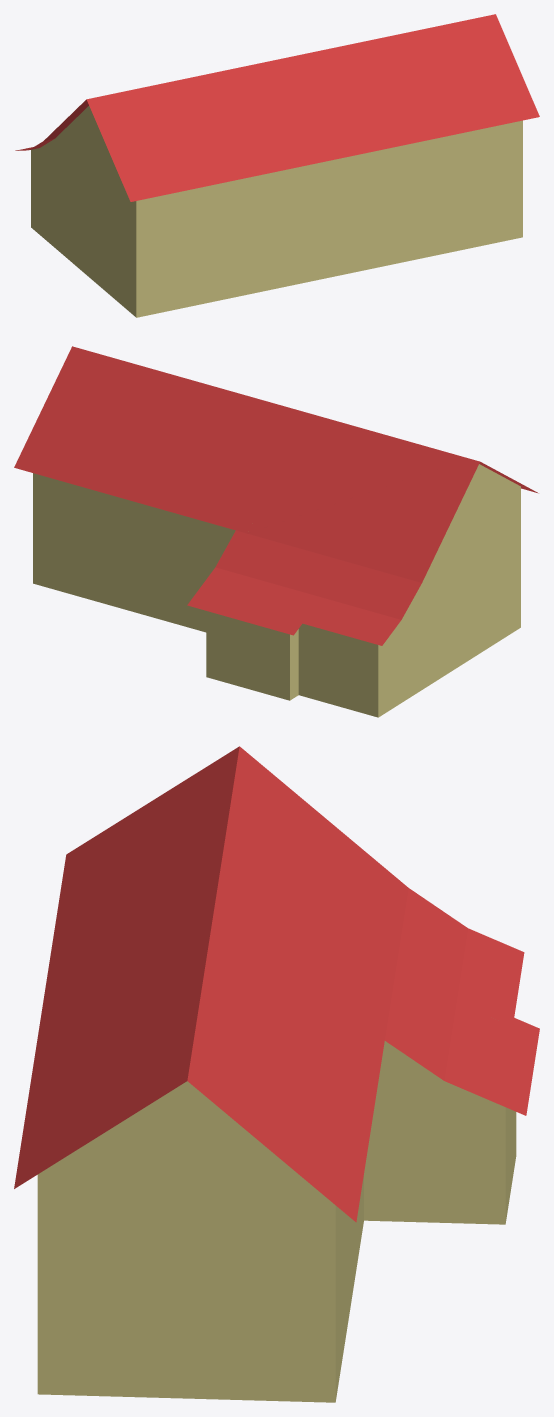
3 renders of one model, top to bottom at view 1: azimuth 30°, elevation 25°; view 2: azimuth 150°, elevation 25°; view 3: azimuth 270°, elevation 25°, orthographic. The views are drawn at different scales.
Size of the model in its own units: 27.44 by 17.71 by 12.15.
